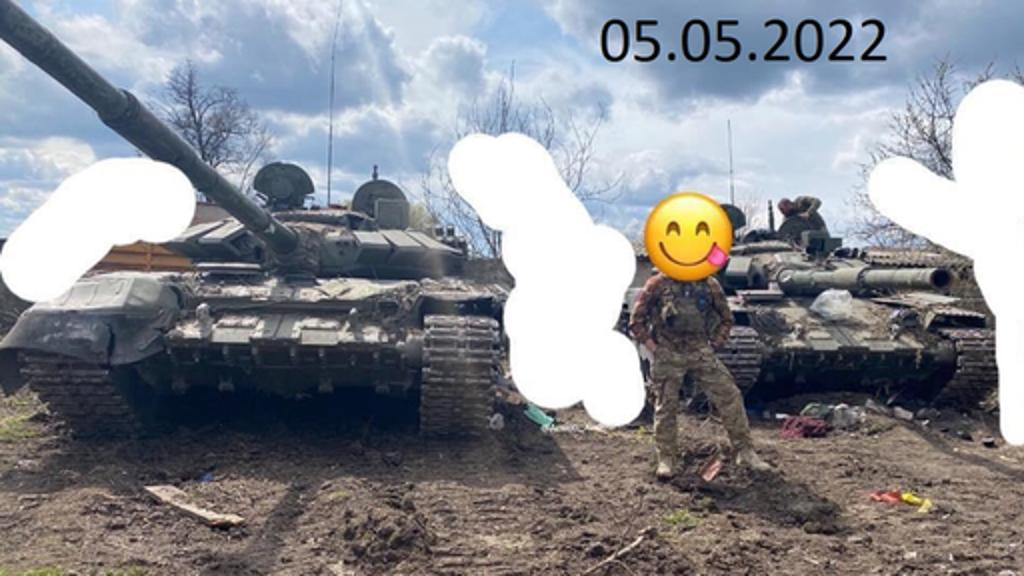TANK: (0, 0, 498, 448), (618, 202, 996, 416)
